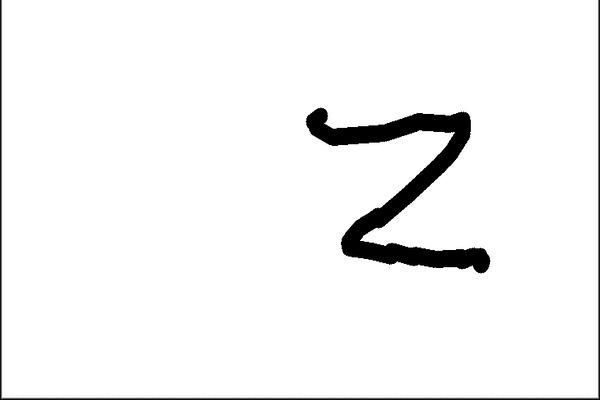Z: (296, 89, 505, 286)
